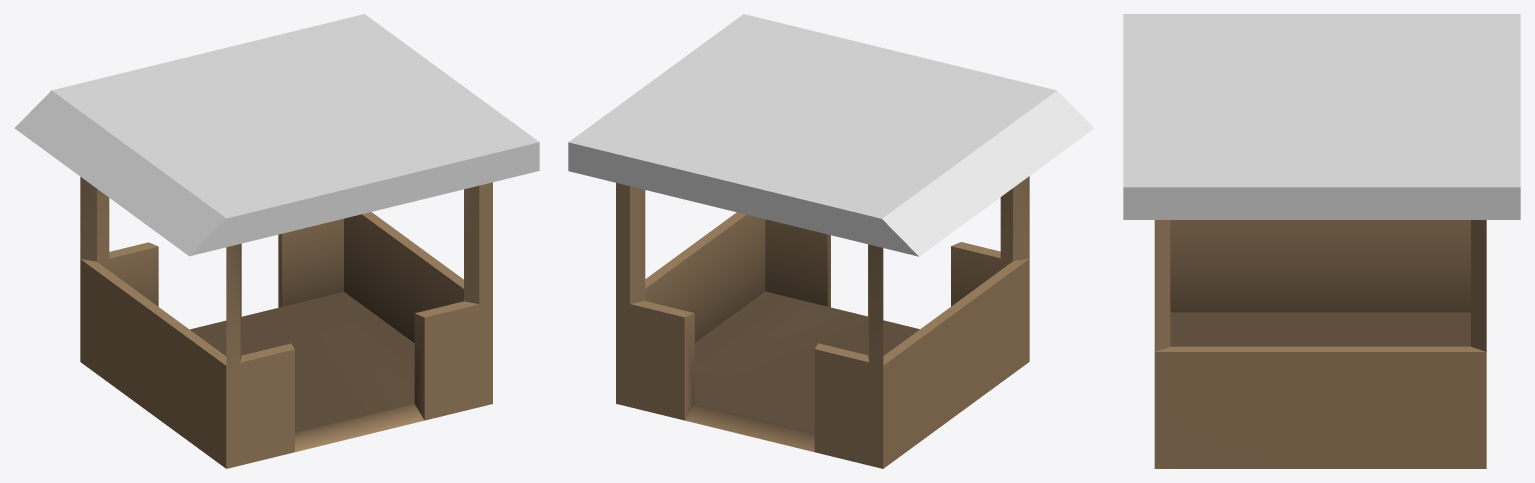
The model's file is ConcessionStand.fbx.
The picture shows the model from 3 angles, left to right: view 1: azimuth 30°, elevation 25°; view 2: azimuth 150°, elevation 25°; view 3: azimuth 270°, elevation 25°; orthographic projection. The views are drawn at different scales.
Visible parts, largest first — view 1: Cube.001, Cube; view 2: Cube.001, Cube; view 3: Cube, Cube.001.
Part boxes in pixels (x1,y1,x2,y2): Cube.001: (14,14,539,256); Cube: (80,177,492,468); Cube.001: (568,14,1094,256); Cube: (616,176,1029,468); Cube: (1154,220,1486,468); Cube.001: (1123,14,1520,219).
Size of the model in its own units: 1070 by 770 by 926.
